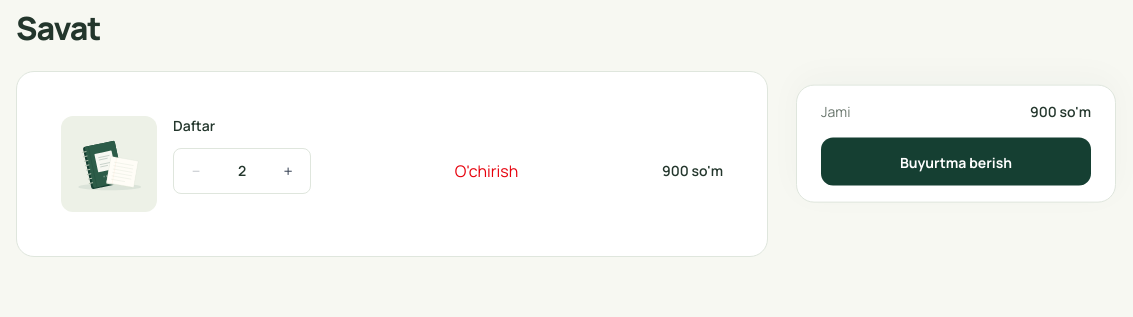
Test case: cart page › shows a localized update failure and does not retry the mutation
The width and height of the screenshot is (1133, 317).
Check: the text "2" is shown, box [238,161,246,180]
Click the button named "miqdorni oshirish" at (288, 171), box [266,149,310,193]
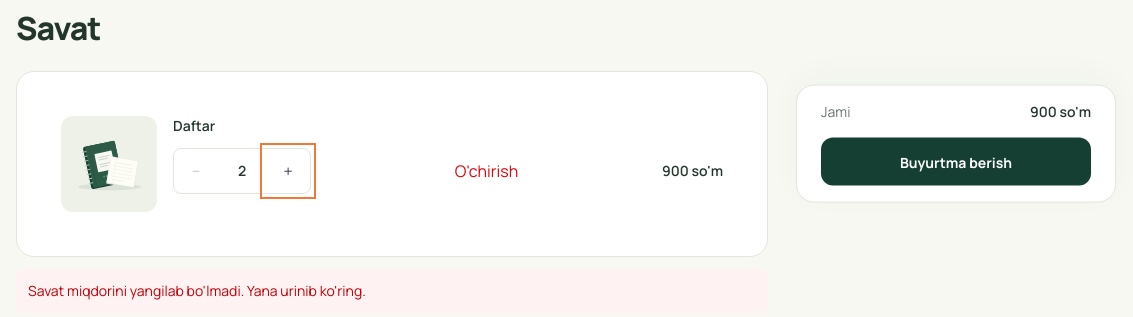
Check: the text "2" is shown, box [238,161,246,180]
Check: the message reads "Savat miqdorini yangilab bo'lmadi. Yana urinib ko'ring.", box [28,281,366,300]
